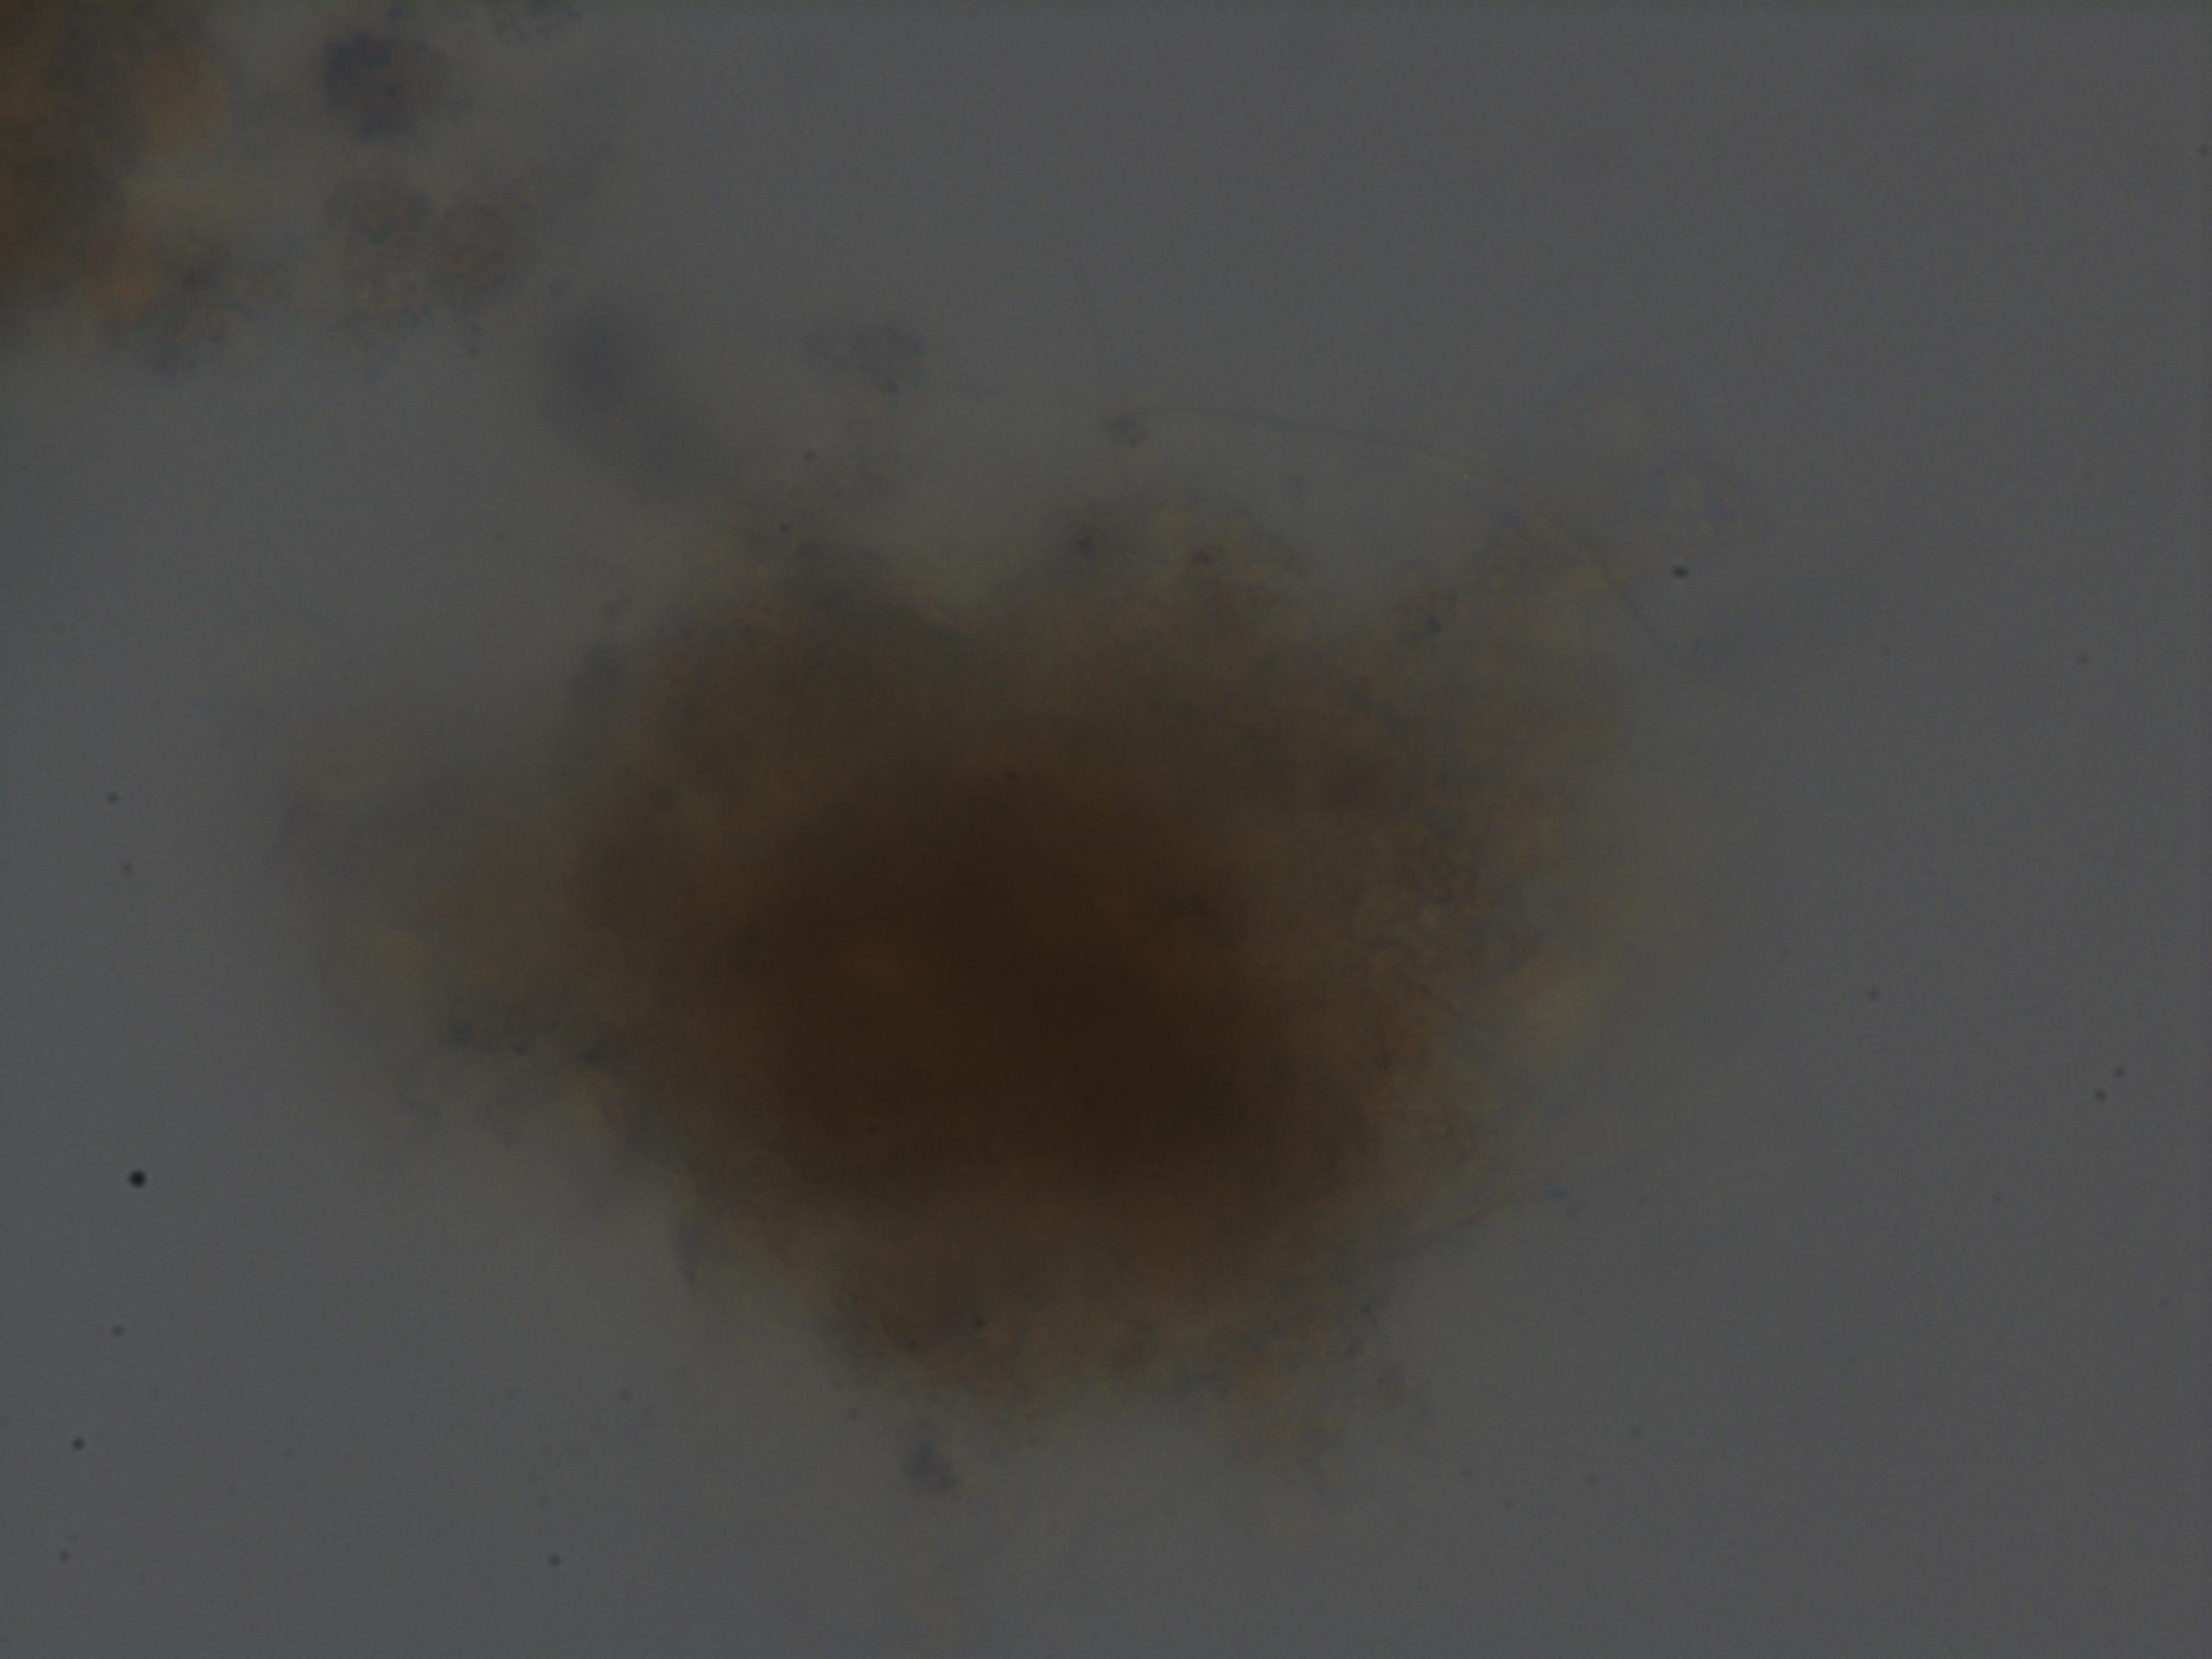spherical_floc: (439, 498, 1670, 1439)
